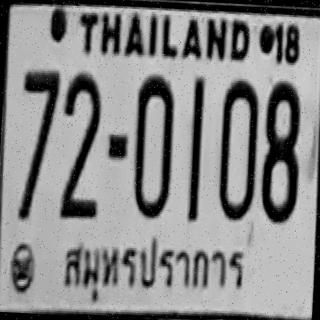N00: (130, 71, 176, 219), (216, 77, 259, 220)
N01: (185, 74, 205, 220)
N02: (58, 68, 104, 218)
N07: (15, 66, 60, 220)
N08: (259, 78, 302, 221)
P57: (59, 228, 249, 302)
